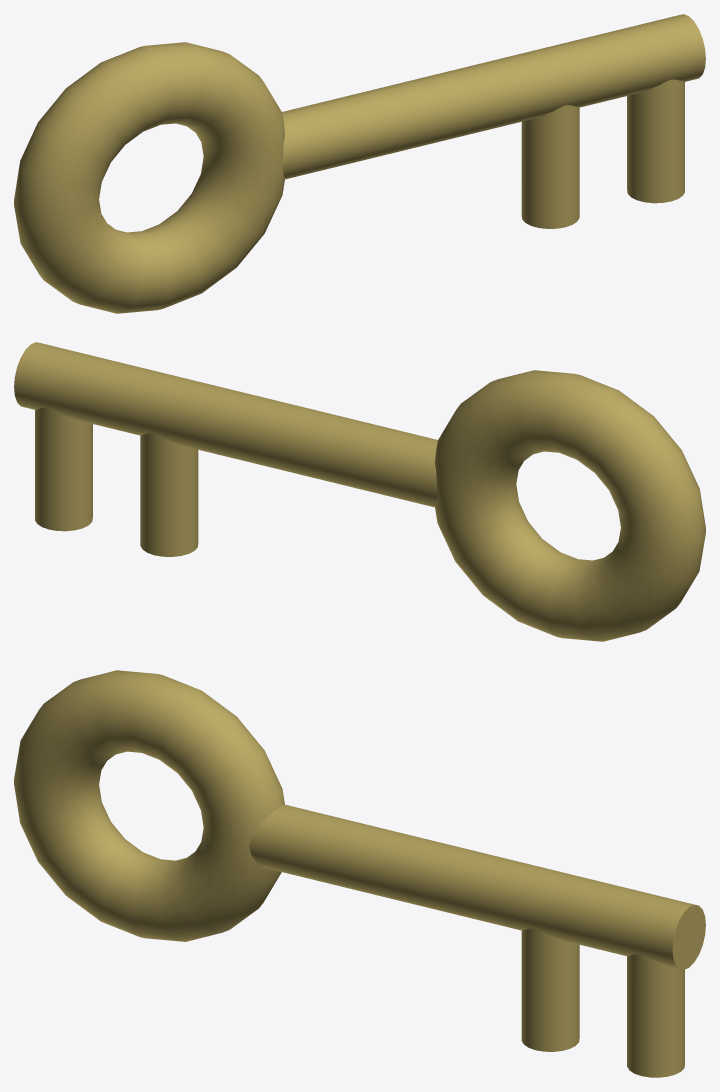
Rendered from Key_001.fbx.
3 views of the same model, one above another, from view 1: azimuth 30°, elevation 25°; view 2: azimuth 150°, elevation 25°; view 3: azimuth 330°, elevation 25° (orthographic).
Parts seen in each view (by area): view 1: pTorus1, pCylinder1, pasted__pCylinder2, pCylinder2; view 2: pTorus1, pCylinder1, pasted__pCylinder2, pCylinder2; view 3: pTorus1, pCylinder1, pasted__pCylinder2, pCylinder2.
Part boxes in pixels (x1,y1,x2,y2): pTorus1: (14, 42, 285, 313); pCylinder1: (282, 14, 705, 179); pasted__pCylinder2: (521, 105, 579, 228); pCylinder2: (627, 79, 684, 203); pTorus1: (434, 370, 705, 641); pCylinder1: (14, 342, 437, 507); pasted__pCylinder2: (140, 433, 198, 556); pCylinder2: (35, 407, 92, 531); pTorus1: (14, 670, 284, 941); pCylinder1: (249, 804, 705, 969); pasted__pCylinder2: (521, 928, 579, 1051); pCylinder2: (627, 954, 684, 1077).
Bounding box in the file's own units: 69.68 × 26.37 × 7.09.
